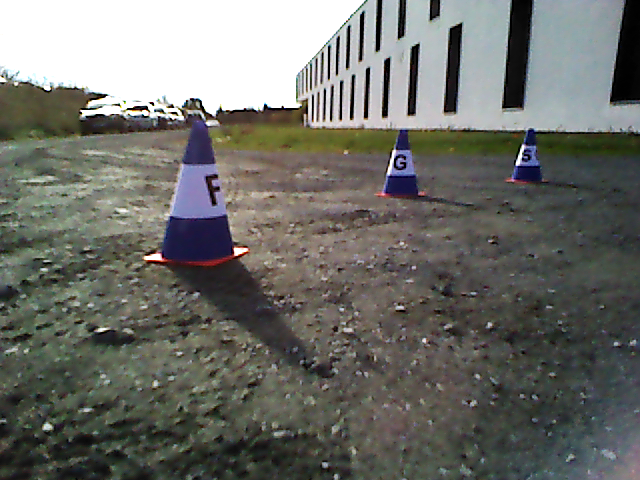bluecone: (162, 120, 237, 258), (385, 130, 418, 194), (512, 128, 543, 181)
